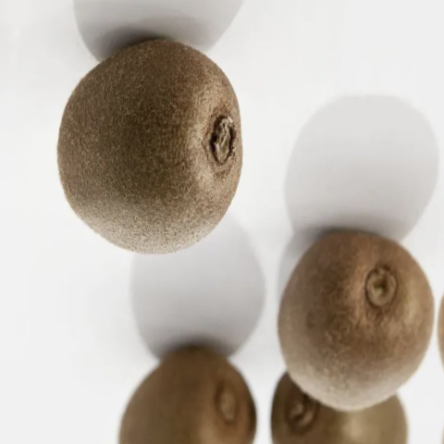kiwi: (31, 17, 270, 279), (248, 207, 444, 420)
